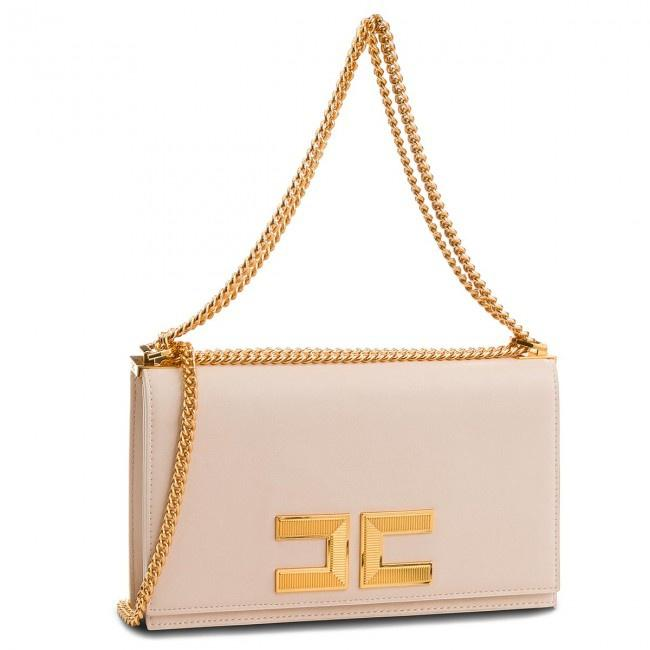ELISABETTA-FRANCHI: (252, 495, 449, 619)
